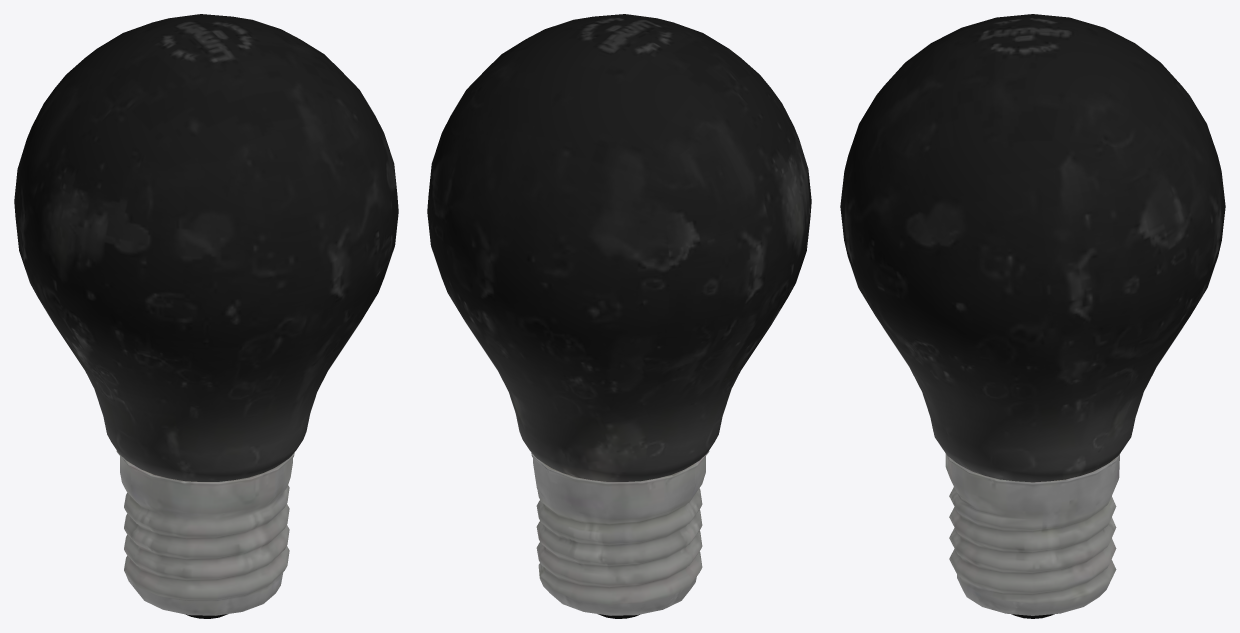
File: lightbulb_01.glb
3 views of the same model, side by side, from view 1: azimuth 30°, elevation 25°; view 2: azimuth 150°, elevation 25°; view 3: azimuth 270°, elevation 25° (orthographic).
Parts seen in each view (by area): view 1: lightbulb_01; view 2: lightbulb_01; view 3: lightbulb_01.
Part boxes in pixels (<box>): lightbulb_01: <box>14,14,398,618</box>; lightbulb_01: <box>427,14,811,618</box>; lightbulb_01: <box>840,14,1225,618</box>.
Bounding box in the file's own units: 0.06 × 0.1003 × 0.06.
Materials: 2 (2 with a texture image).
